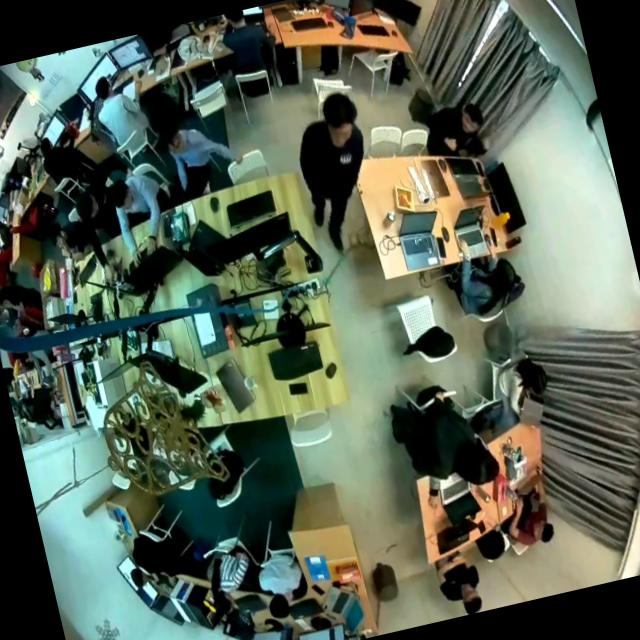employee_tag: (338, 150, 354, 170)
